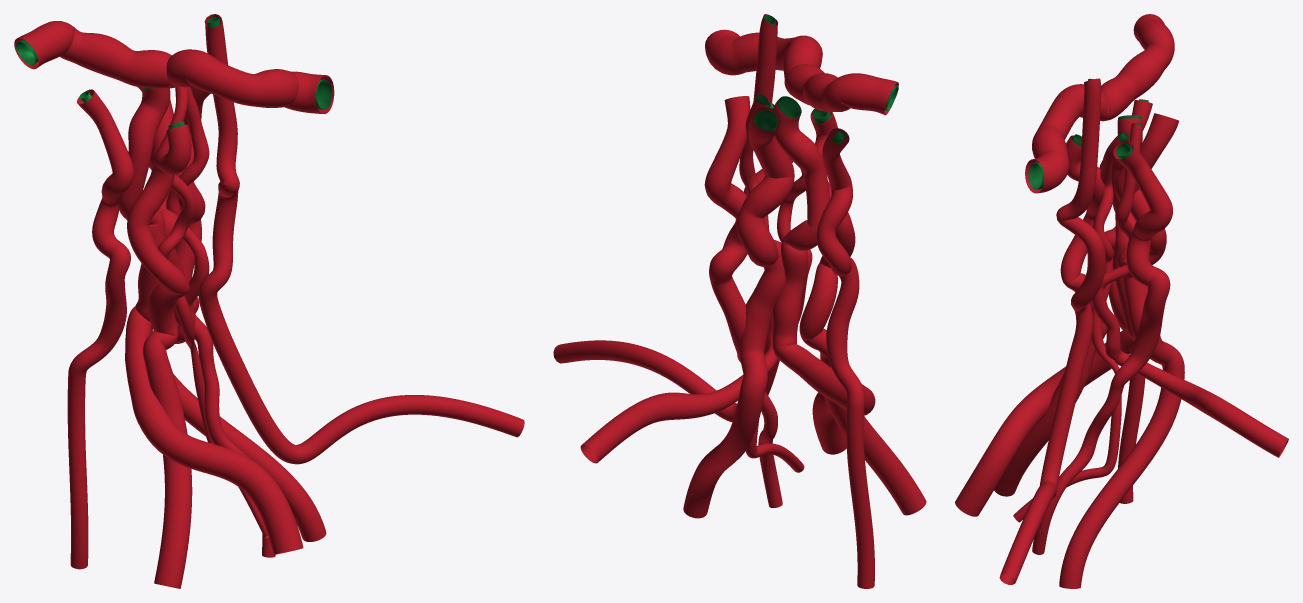
The model's file is 04_Superpowers.glb.
The picture shows the model from 3 angles, left to right: view 1: azimuth 30°, elevation 25°; view 2: azimuth 150°, elevation 25°; view 3: azimuth 270°, elevation 25°; orthographic projection. The views are drawn at different scales.
Parts seen in each view (by area): view 1: Vines_red, Vine; view 2: Vines_red, Vine.006; view 3: Vines_red.
Part boxes in pixels (x1,y1,x2,y2): Vines_red: (14, 14, 524, 588); Vine: (16, 40, 332, 109); Vines_red: (553, 14, 926, 588); Vine.006: (753, 15, 778, 130); Vines_red: (955, 14, 1288, 588).
Size of the model in its own units: 97.22 by 117 by 74.81.
